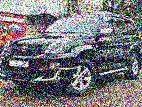car: (0, 10, 141, 96)
